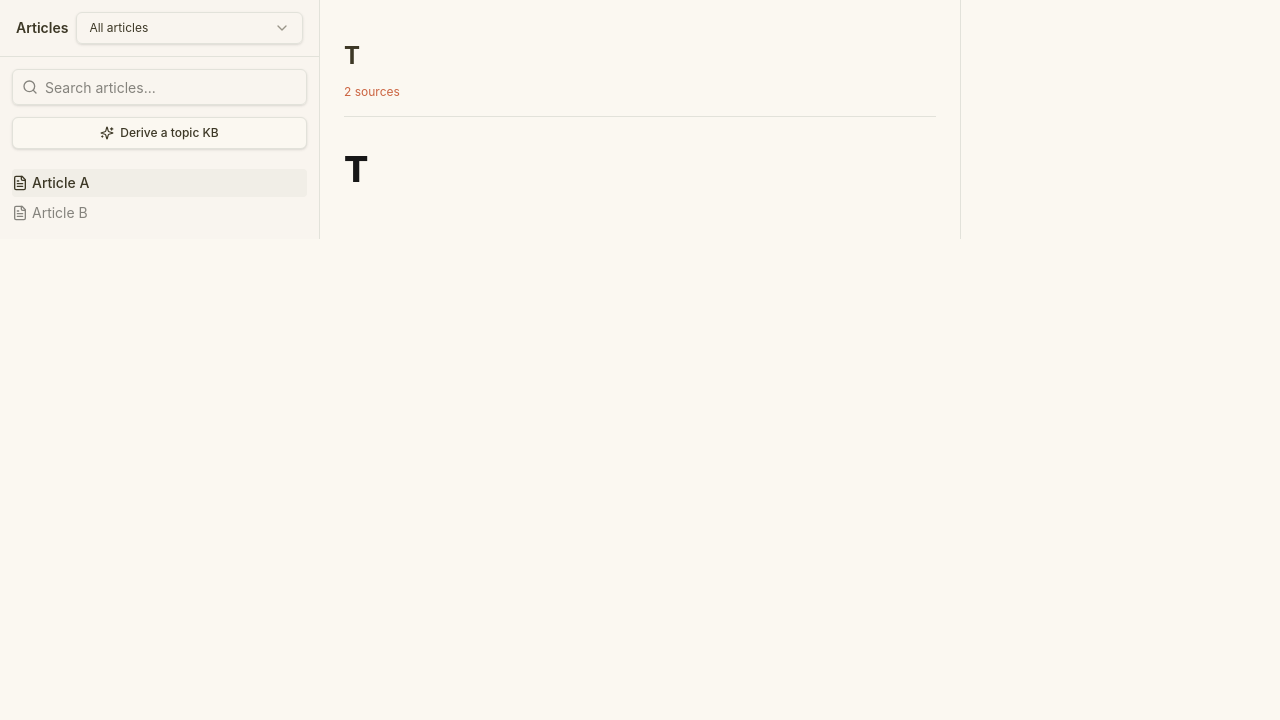
it: Wiki page › lists the source files behind the source count
Click the button "2 sources". click: (372, 92)
box: top-left (344, 84), bottom-right (400, 100)
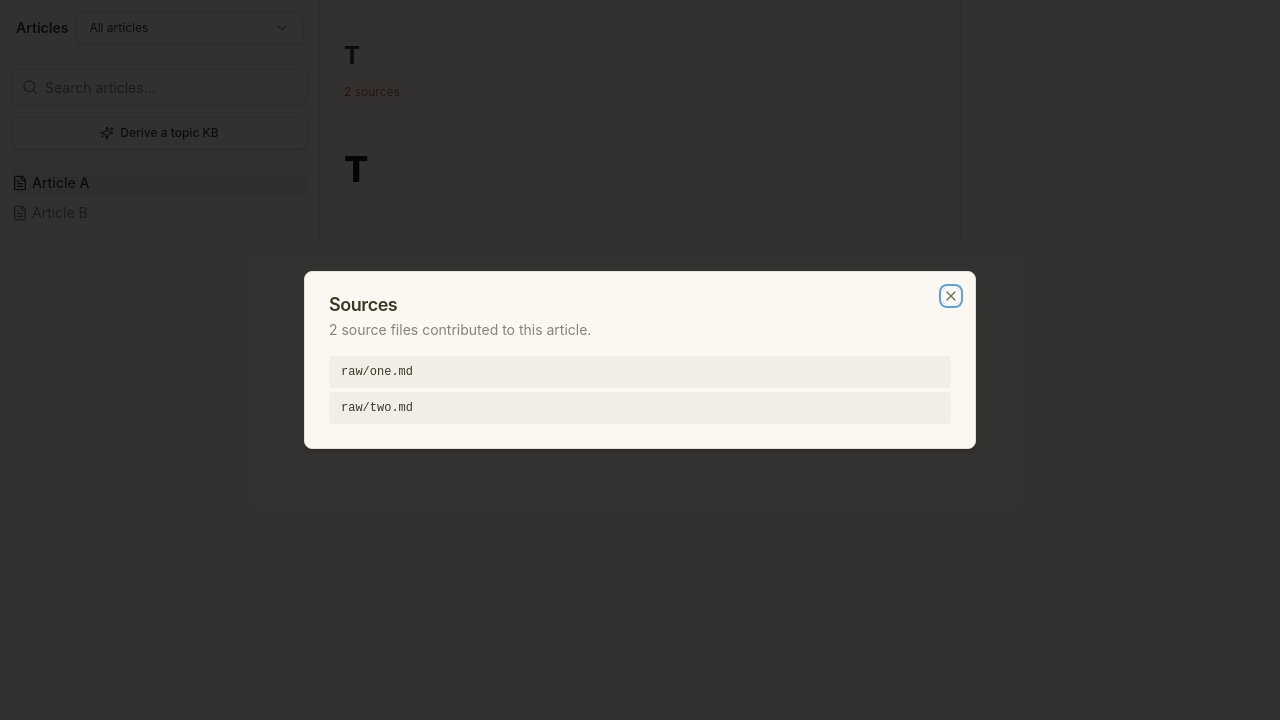
Expected: the dialog shows "2 source files contributed to this article.", top-left (304, 271), bottom-right (976, 449)
Expected: the list item "raw/one.md" is shown, top-left (329, 356), bottom-right (951, 388)
Expected: the list item "raw/two.md" is shown, top-left (329, 392), bottom-right (951, 424)
